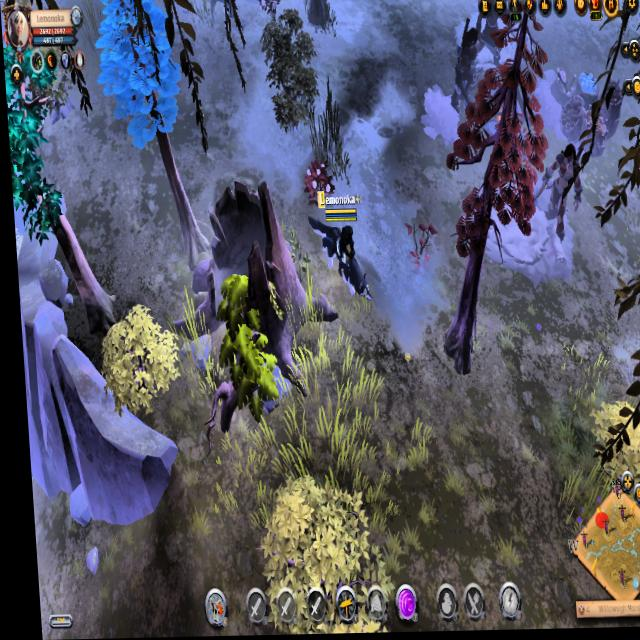fiber tier 5: (300, 156, 332, 194)
wood tier 5: (432, 24, 557, 269)
